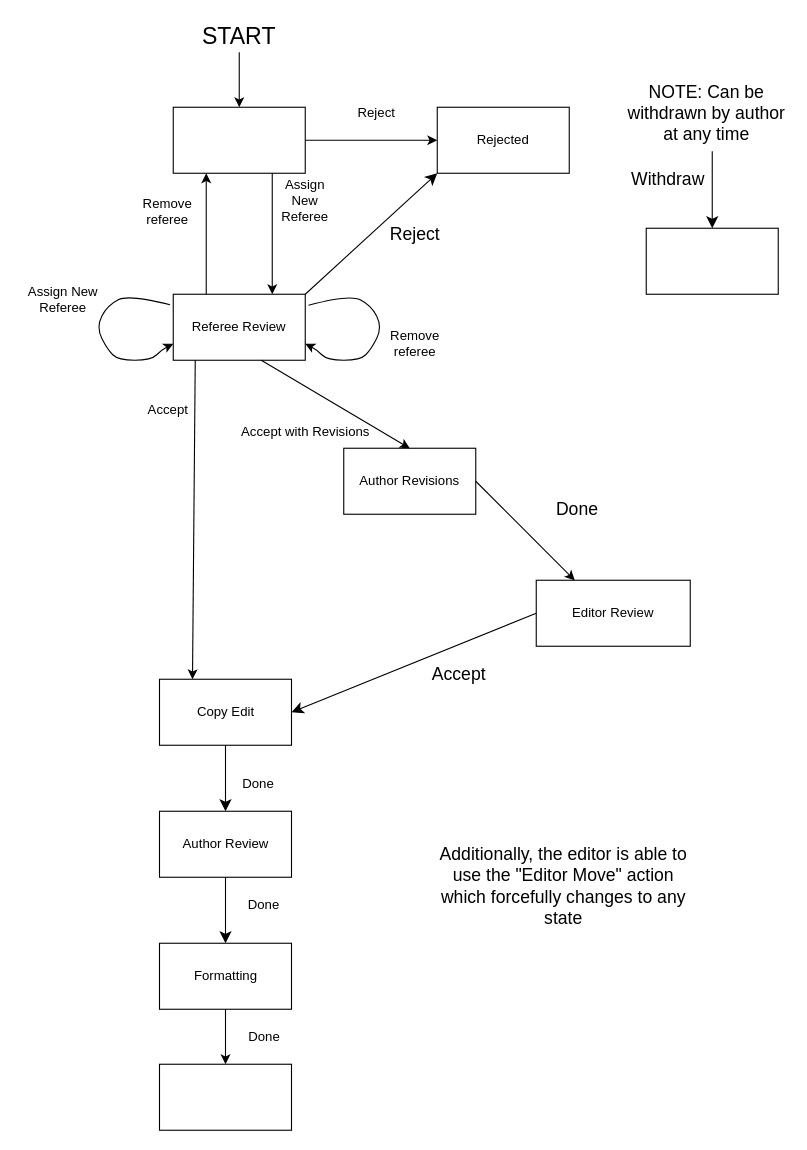
This 807x1150 diagram has some shape labels left out. The shapes that lost their labels are listed below. From the top down, each one's box as (x1, y1, x2, y2) in pixels, then its label:
(172, 106, 305, 173): Submitted
(645, 227, 778, 294): Withdrawn
(158, 1063, 292, 1130): Published
